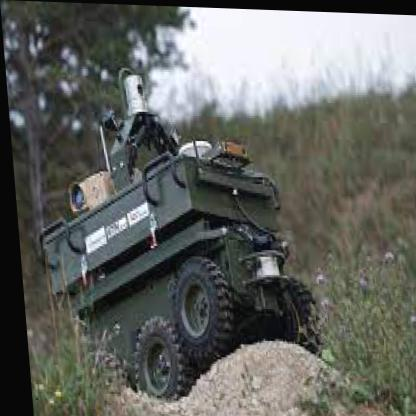UGV: (23, 64, 321, 406)
